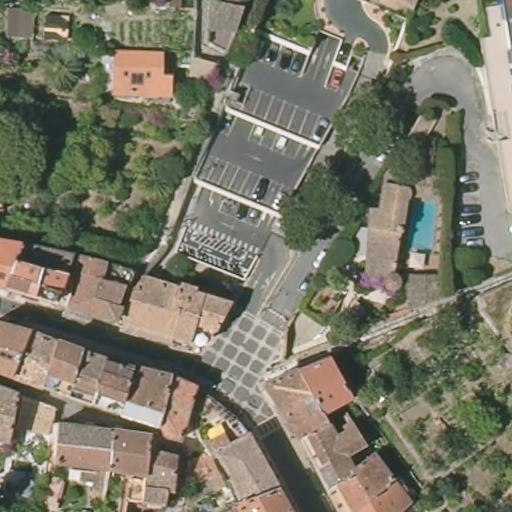pool: (404, 190, 441, 261)
